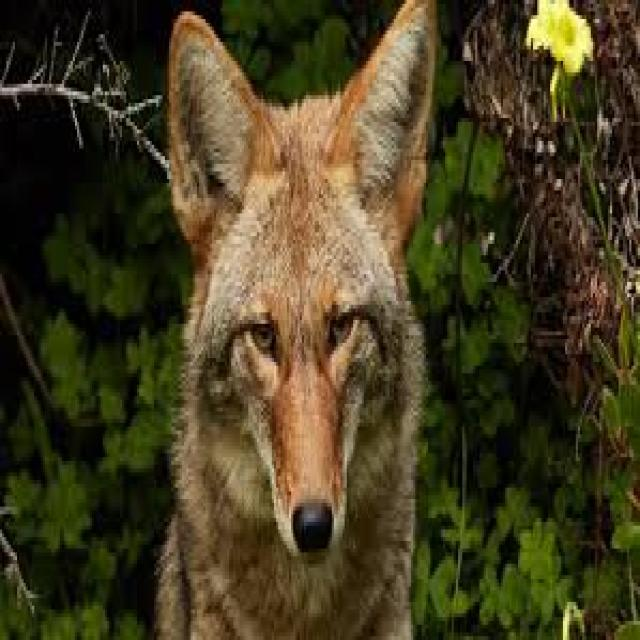Coyote: (154, 4, 440, 640)
